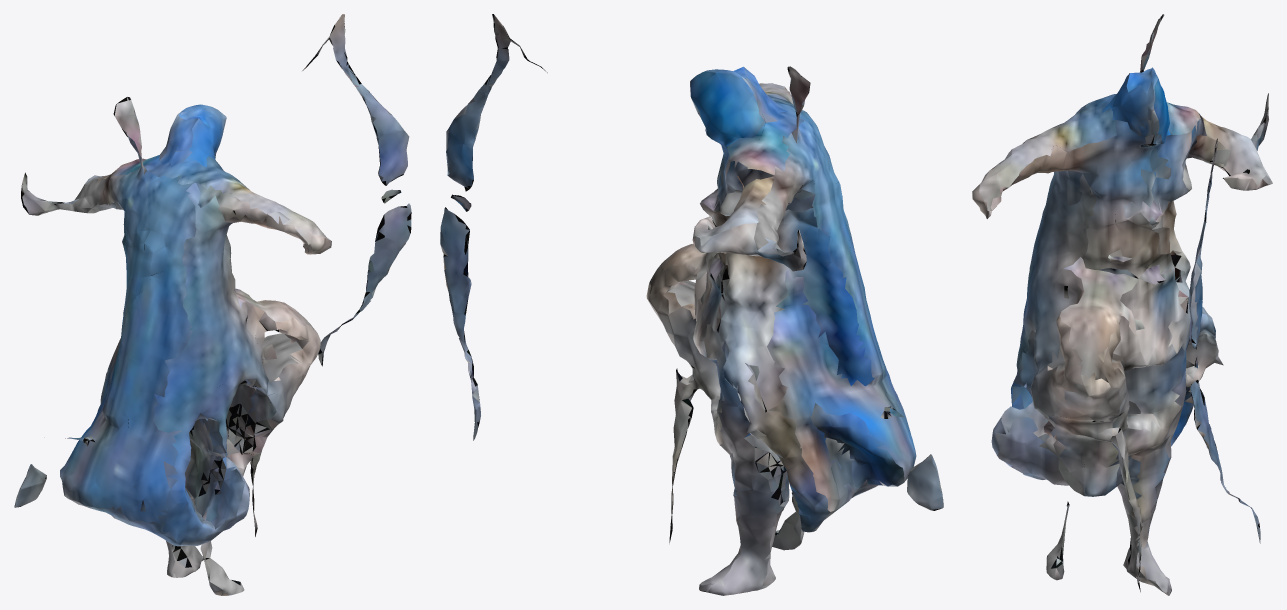
The picture shows the model from 3 angles, left to right: view 1: azimuth 30°, elevation 25°; view 2: azimuth 150°, elevation 25°; view 3: azimuth 270°, elevation 25°; orthographic projection. The views are drawn at different scales.
Visible parts, largest first — view 1: world; view 2: world; view 3: world.
Part boxes in pixels (box(x1,y1,x2,y2)): world: box(14, 14, 411, 595); world: box(440, 14, 943, 595); world: box(972, 14, 1272, 595).
Size of the model in its own units: 0.7958 by 0.8826 by 0.4399.
1 material, 1 textured.
